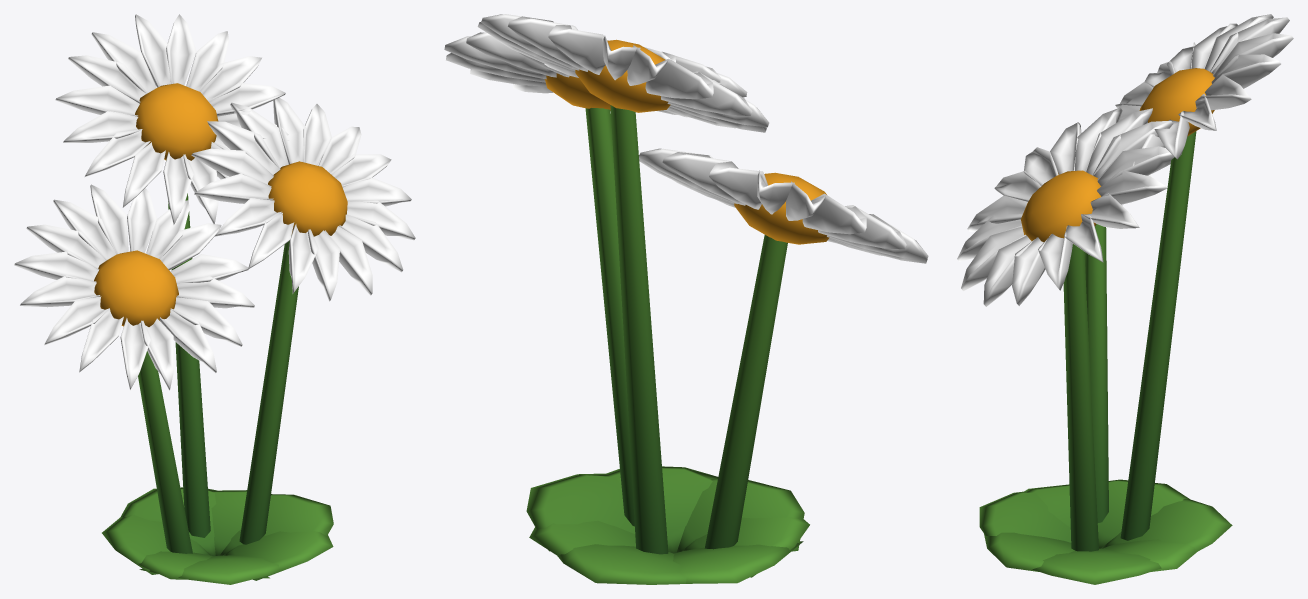
The model's file is flower_daisy.glb.
3 renders of one model, left to right at view 1: azimuth 30°, elevation 25°; view 2: azimuth 150°, elevation 25°; view 3: azimuth 270°, elevation 25°, orthographic. The views are drawn at different scales.
Parts seen in each view (by area): view 1: flower_daisy_top, flower_daisy; view 2: flower_daisy, flower_daisy_top; view 3: flower_daisy, flower_daisy_top.
Part boxes in pixels (left/top/right/bottom): flower_daisy_top: left=14, top=14, right=415, bottom=390; flower_daisy: left=94, top=83, right=347, bottom=584; flower_daisy: left=526, top=39, right=829, bottom=584; flower_daisy_top: left=444, top=14, right=928, bottom=263; flower_daisy: left=979, top=68, right=1232, bottom=584; flower_daisy_top: left=957, top=14, right=1293, bottom=306.
Size of the model in its own units: 0.3985 by 0.4944 by 0.289.
